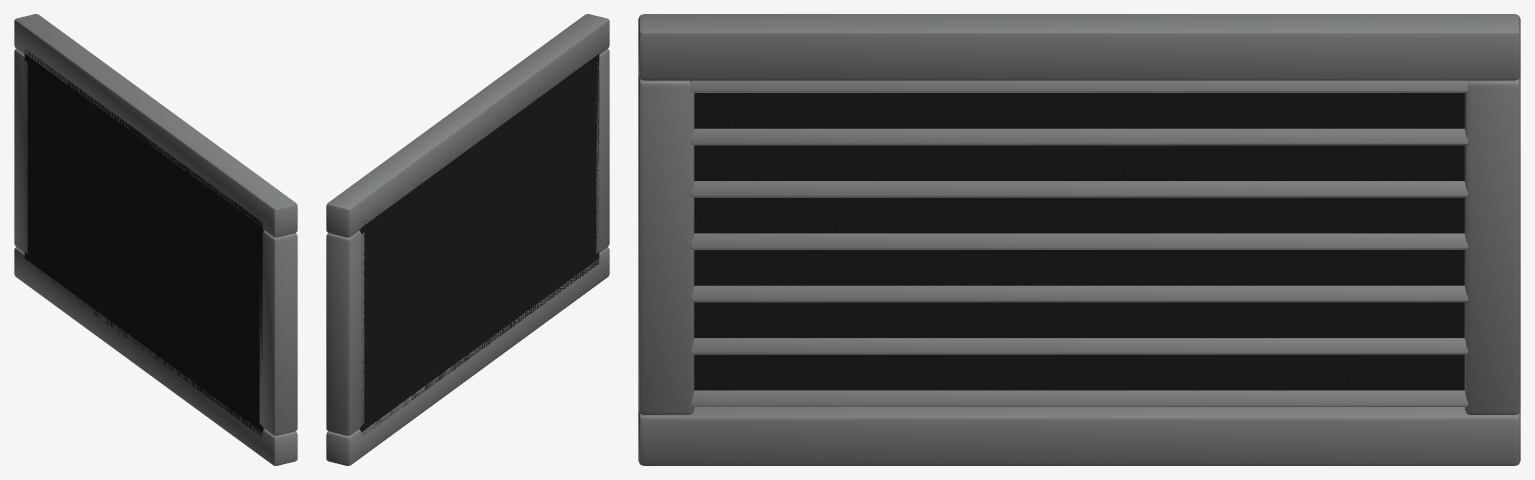
File: CTCC_HALL_WallVentGrille.fbx
3 views of the same model, side by side, from view 1: azimuth 30°, elevation 25°; view 2: azimuth 150°, elevation 25°; view 3: azimuth 270°, elevation 25° (orthographic). The views are drawn at different scales.
Visible parts, largest first — view 1: CTCC_HALL_WallVentGrille; view 2: CTCC_HALL_WallVentGrille; view 3: CTCC_HALL_WallVentGrille.
Part boxes in pixels (x1=…): CTCC_HALL_WallVentGrille: x1=14, y1=14, x2=297, y2=465; CTCC_HALL_WallVentGrille: x1=326, y1=14, x2=609, y2=465; CTCC_HALL_WallVentGrille: x1=638, y1=14, x2=1520, y2=465.
Size of the model in its own units: 0.0243 by 0.24 by 0.44.
